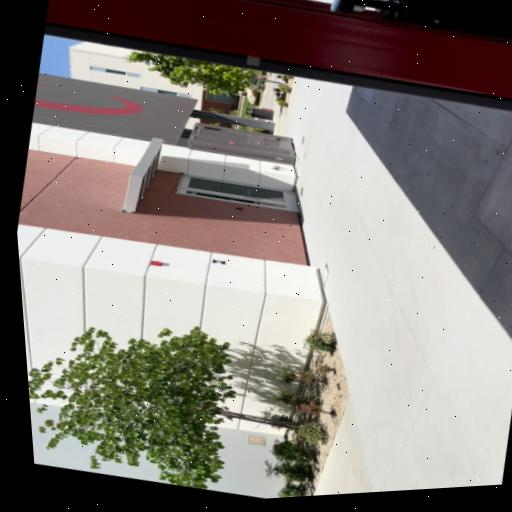target6: (212, 258, 226, 266)
